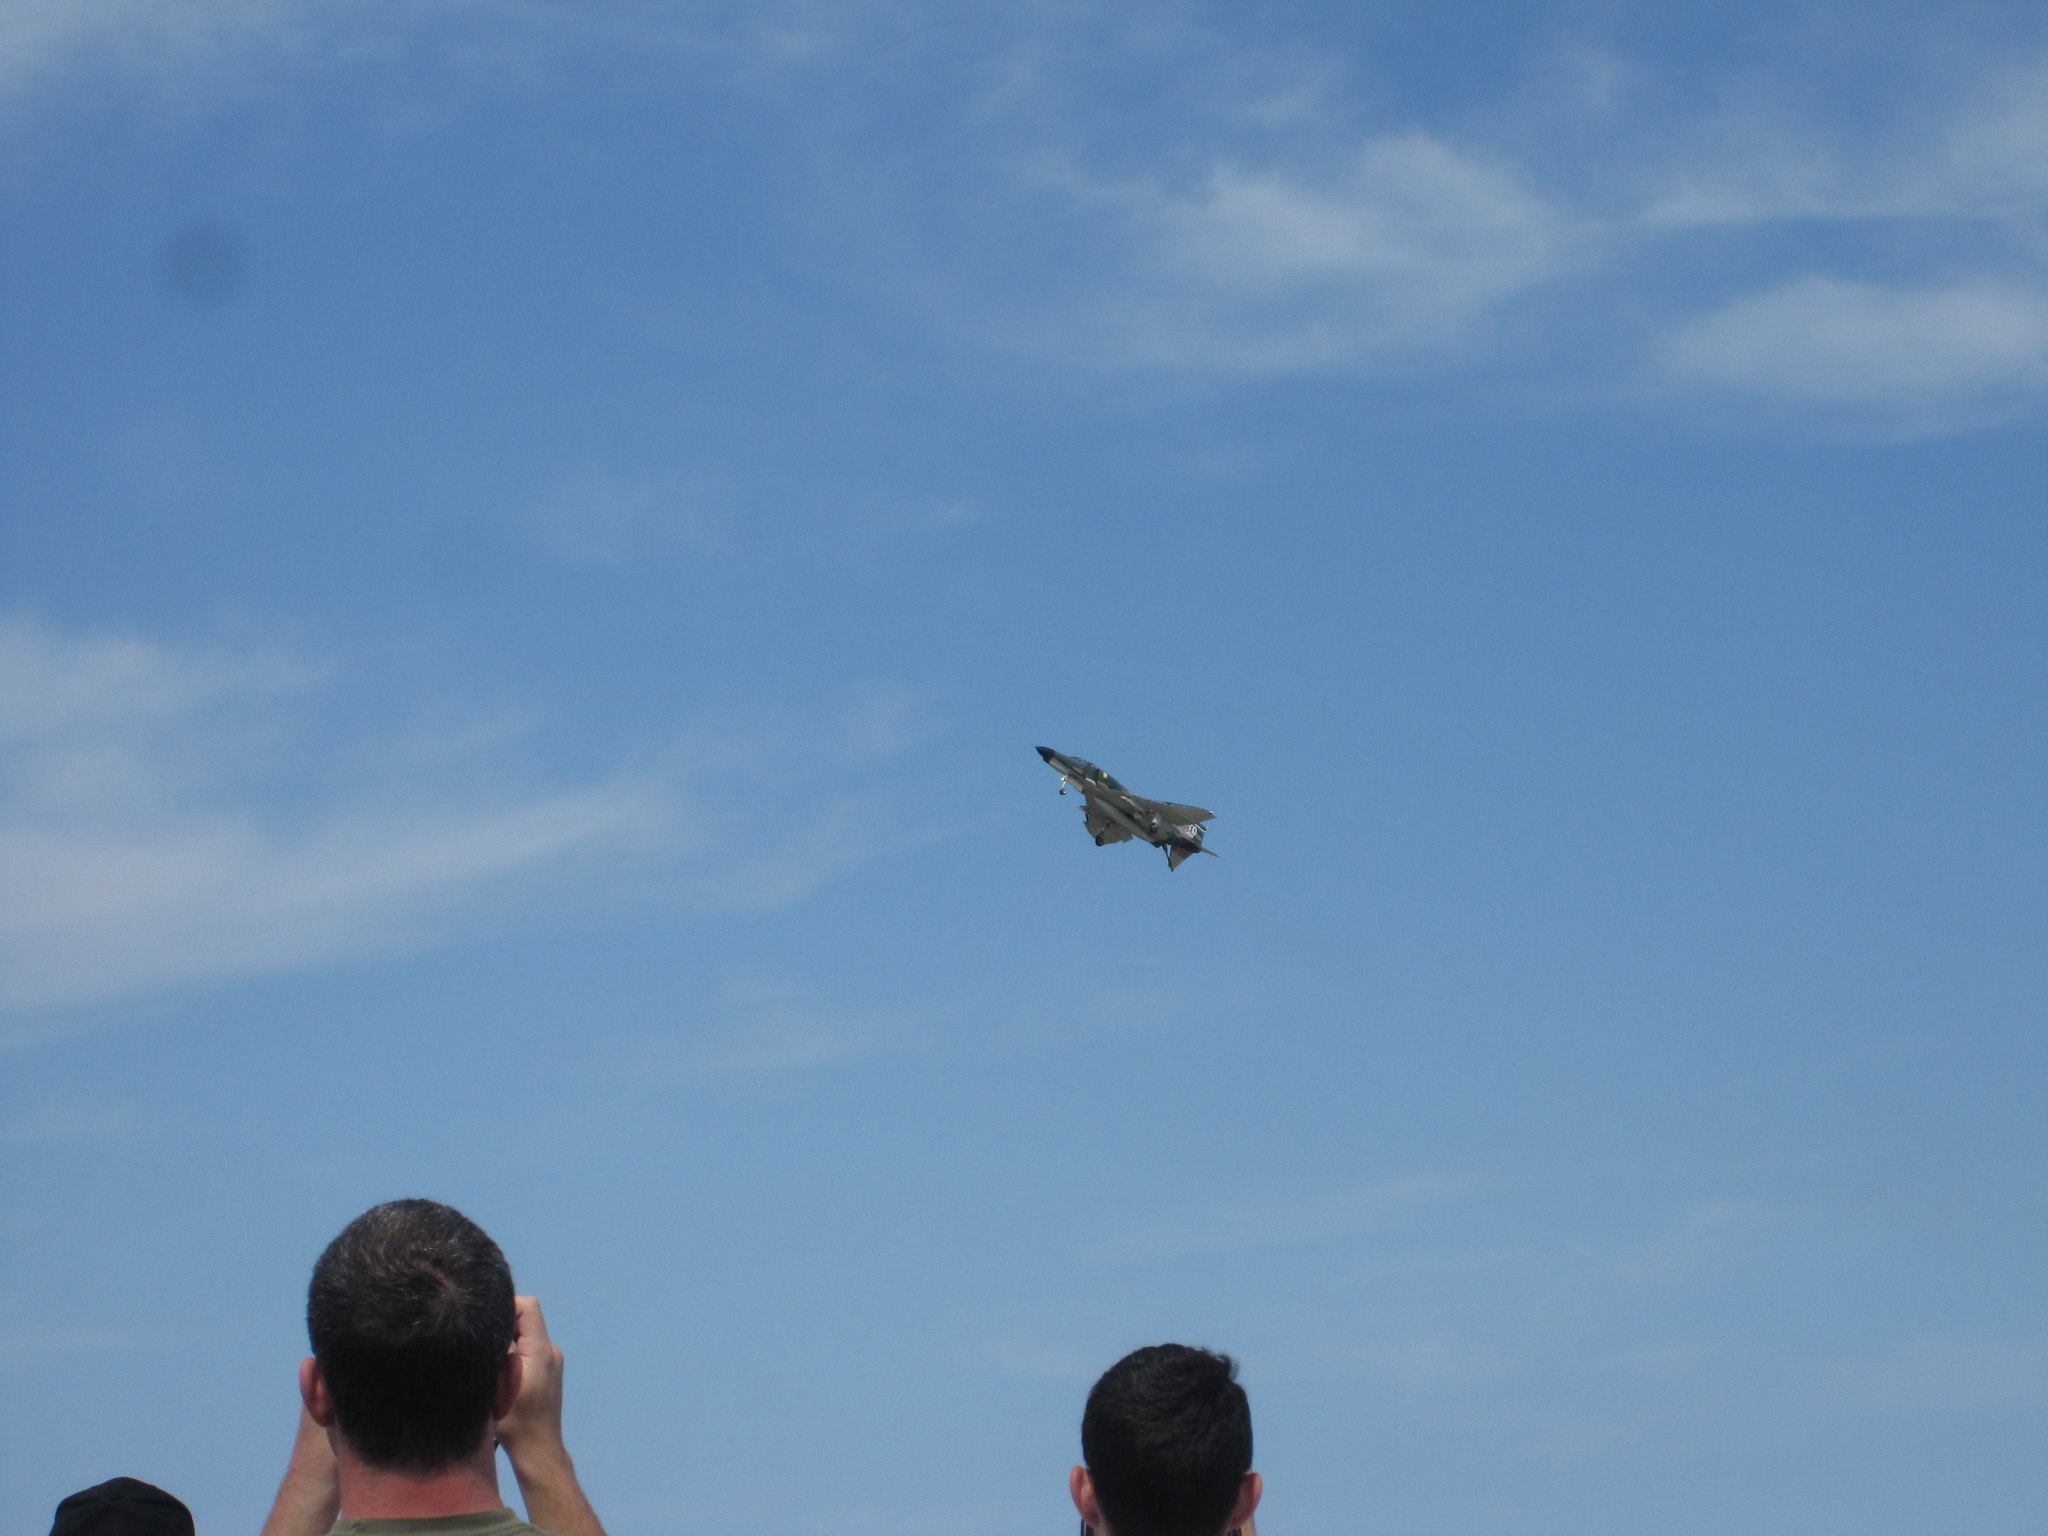F4: (1030, 744, 1224, 871)
